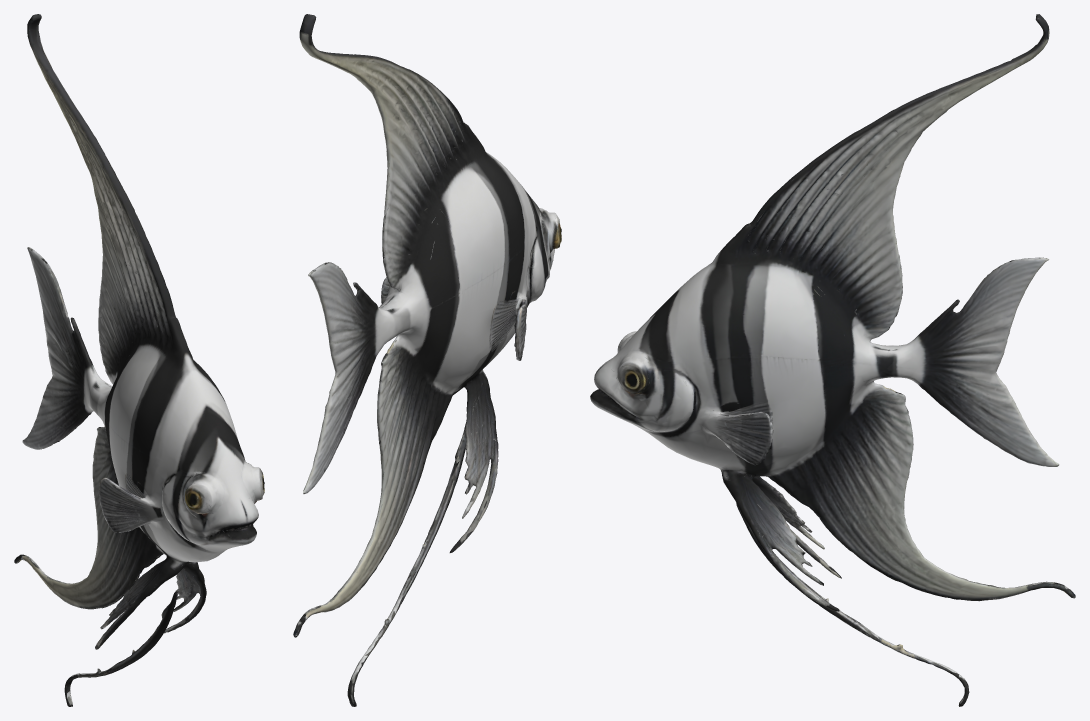
File: angelfish.glb
3 views of the same model, side by side, from view 1: azimuth 30°, elevation 25°; view 2: azimuth 150°, elevation 25°; view 3: azimuth 270°, elevation 25° (orthographic). The views are drawn at different scales.
Bounding box in the file's own units: 0.3873 × 1.91 × 1.22.
Materials: 1 (1 with a texture image).
